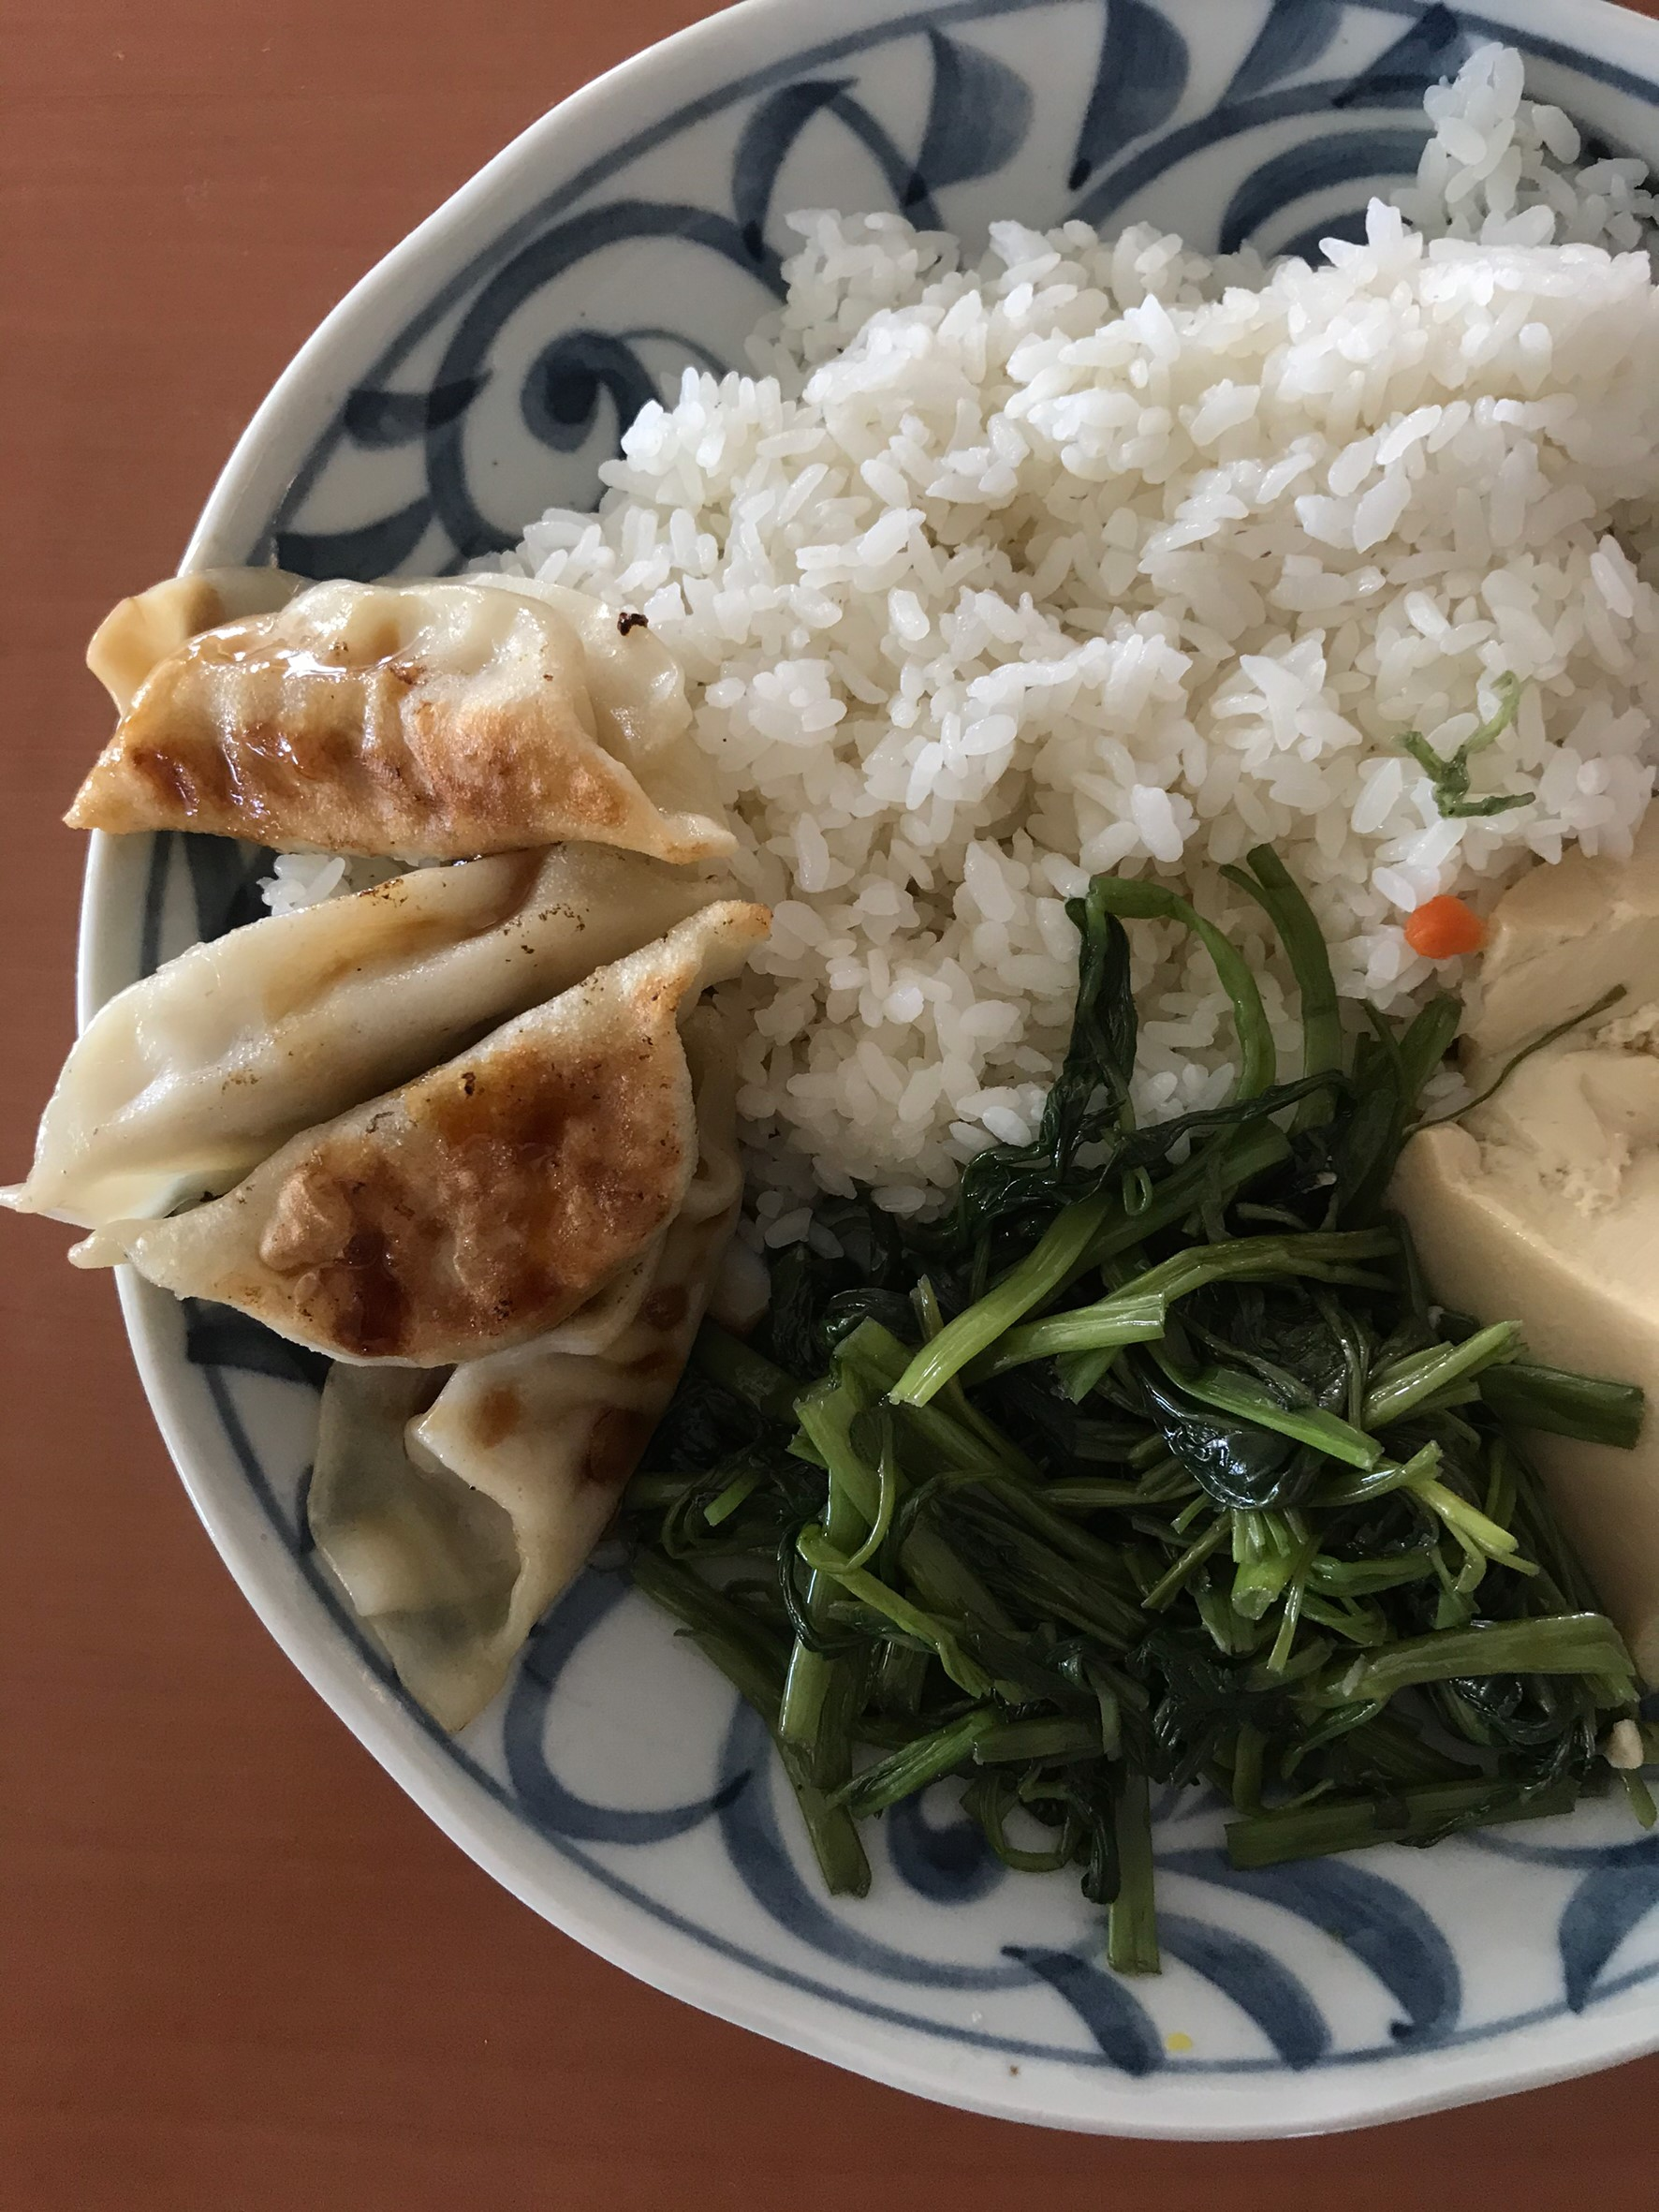fried_dumplings: (118, 605, 688, 1525)
rice: (795, 270, 1650, 1009)
water_spinach: (816, 1131, 1387, 1759)
